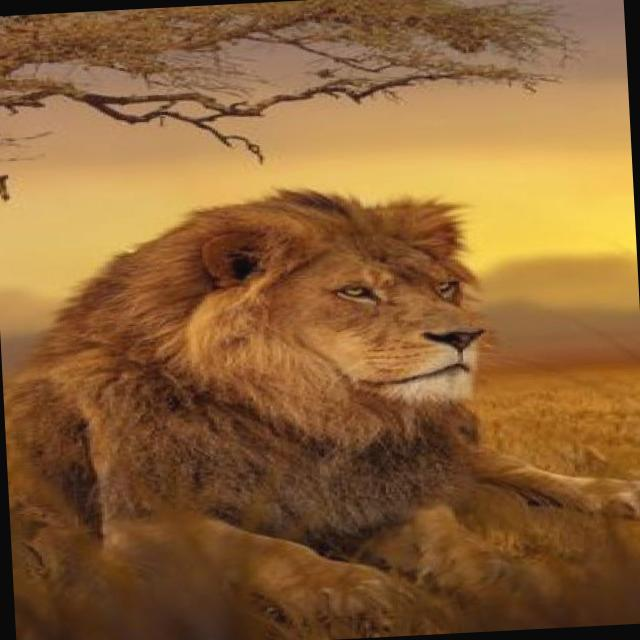lions: (0, 111, 638, 608)
